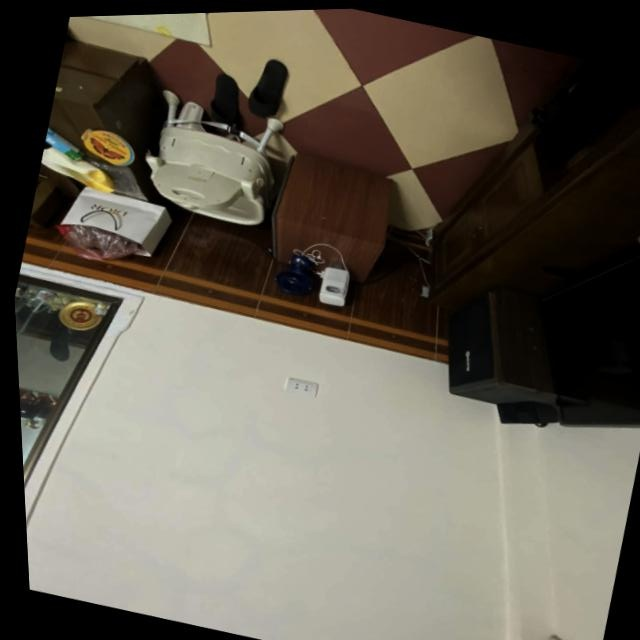outlet: (284, 374, 321, 398)
